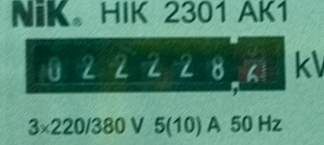0: (43, 55, 59, 83)
2: (76, 52, 95, 82), (142, 51, 160, 79), (110, 52, 127, 81), (176, 51, 193, 80)
5: (242, 39, 258, 59)
6: (242, 62, 258, 83)
8: (207, 54, 223, 82)
screen: (15, 24, 293, 103)
